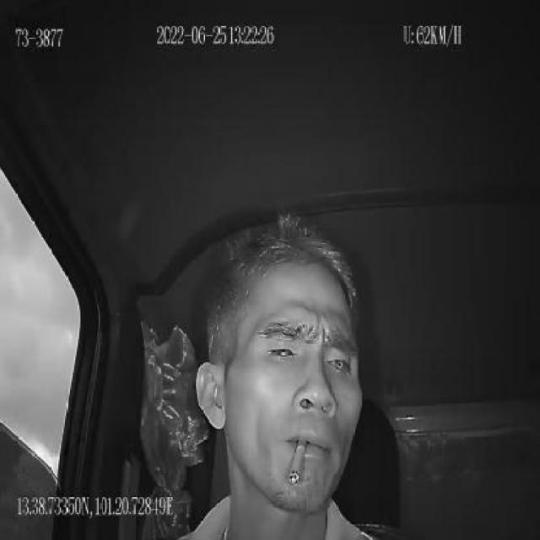smoking: (289, 438, 307, 488)
